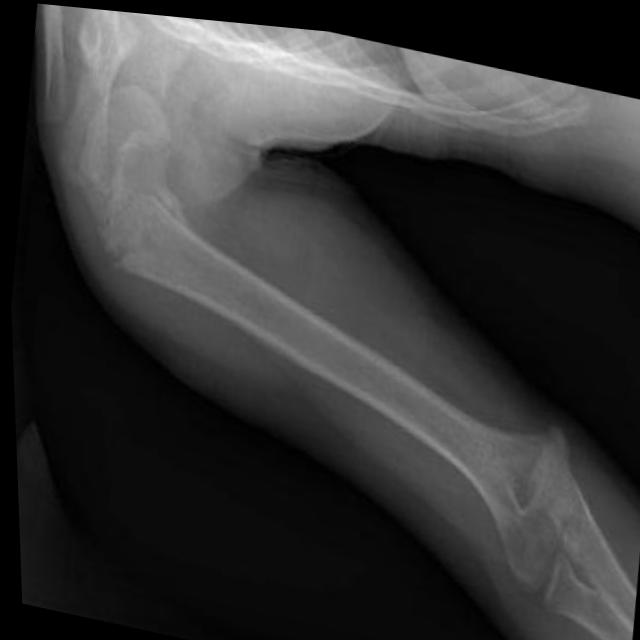fracture: (94, 201, 155, 285)
